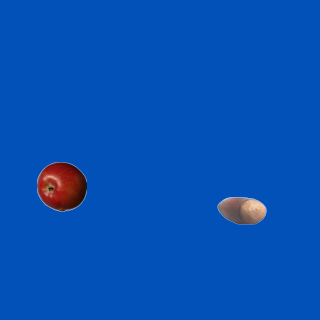Apple Braeburn: (36, 161, 86, 211)
Hazelnut: (216, 185, 266, 235)
